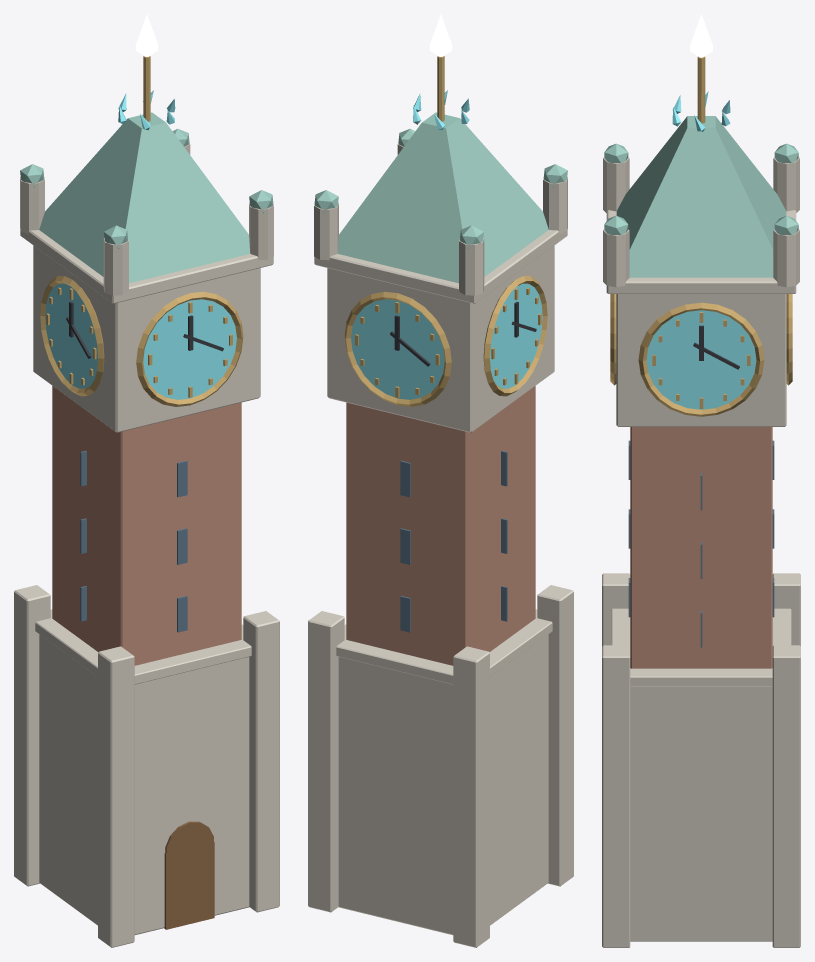
Rendered from Cite_TourHorloge.fbx.
The picture shows the model from 3 angles, left to right: view 1: azimuth 30°, elevation 25°; view 2: azimuth 150°, elevation 25°; view 3: azimuth 270°, elevation 25°; orthographic projection.
Parts seen in each view (by area): view 1: Cite_TourHorloge_Pierre, Cite_TourHorloge_Brique, Cite_TourHorloge_Cuivre, Cite_TourHorloge_Noyau, Cite_TourHorloge_Laiton, Cite_TourHorloge_Bois, Cite_TourHorloge_Vitre, Cite_TourHorloge_Metal, Cite_TourHorloge_Cristal; view 2: Cite_TourHorloge_Pierre, Cite_TourHorloge_Brique, Cite_TourHorloge_Cuivre, Cite_TourHorloge_Noyau, Cite_TourHorloge_Laiton, Cite_TourHorloge_Vitre, Cite_TourHorloge_Metal, Cite_TourHorloge_Cristal; view 3: Cite_TourHorloge_Pierre, Cite_TourHorloge_Brique, Cite_TourHorloge_Cuivre, Cite_TourHorloge_Noyau, Cite_TourHorloge_Laiton, Cite_TourHorloge_Vitre, Cite_TourHorloge_Cristal.
Part boxes in pixels (bbox=[...]): Cite_TourHorloge_Pierre: bbox=[14, 143, 279, 947]; Cite_TourHorloge_Brique: bbox=[52, 386, 241, 665]; Cite_TourHorloge_Cuivre: bbox=[20, 112, 273, 283]; Cite_TourHorloge_Noyau: bbox=[45, 90, 236, 399]; Cite_TourHorloge_Laiton: bbox=[40, 56, 243, 406]; Cite_TourHorloge_Bois: bbox=[164, 821, 214, 929]; Cite_TourHorloge_Vitre: bbox=[80, 450, 187, 632]; Cite_TourHorloge_Metal: bbox=[66, 301, 223, 358]; Cite_TourHorloge_Cristal: bbox=[135, 14, 158, 56]; Cite_TourHorloge_Pierre: bbox=[308, 143, 573, 947]; Cite_TourHorloge_Brique: bbox=[346, 386, 535, 665]; Cite_TourHorloge_Cuivre: bbox=[314, 112, 567, 283]; Cite_TourHorloge_Noyau: bbox=[351, 90, 542, 399]; Cite_TourHorloge_Laiton: bbox=[344, 56, 547, 406]; Cite_TourHorloge_Vitre: bbox=[400, 450, 507, 632]; Cite_TourHorloge_Metal: bbox=[390, 301, 536, 366]; Cite_TourHorloge_Cristal: bbox=[429, 14, 452, 56]; Cite_TourHorloge_Pierre: bbox=[602, 157, 800, 947]; Cite_TourHorloge_Brique: bbox=[630, 427, 772, 668]; Cite_TourHorloge_Cuivre: bbox=[604, 116, 798, 277]; Cite_TourHorloge_Noyau: bbox=[646, 91, 756, 409]; Cite_TourHorloge_Laiton: bbox=[610, 56, 792, 416]; Cite_TourHorloge_Vitre: bbox=[628, 440, 774, 647]; Cite_TourHorloge_Cristal: bbox=[690, 14, 712, 57].
Size of the model in its own units: 21 by 104 by 21.
